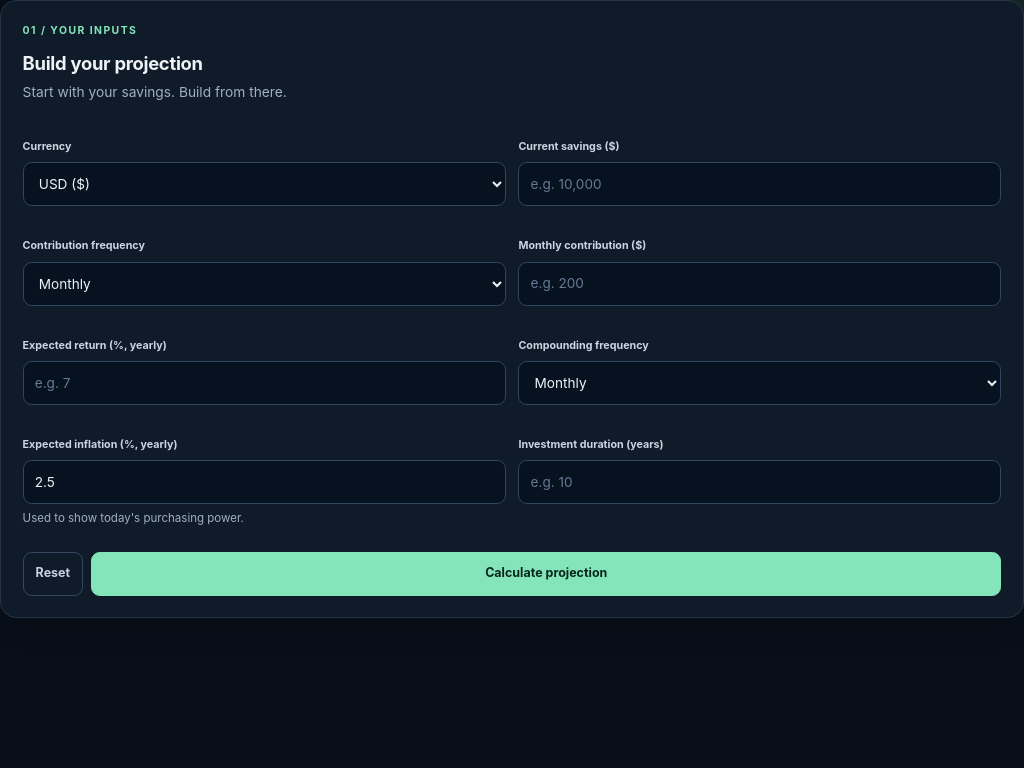
Form › keeps a cleared number input empty and rejects it on submit
Clear the number field labelled "Current savings ($)". click: (760, 184)
box: [518,162,1001,206]
Submit the form named "calculate"
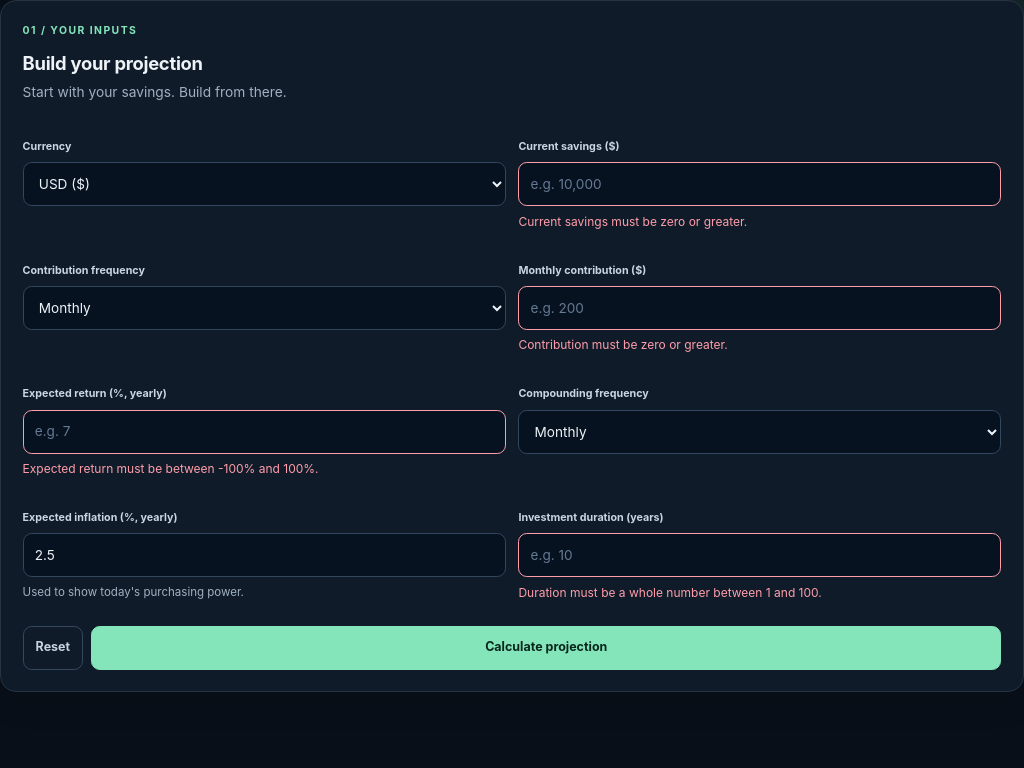
Check: the text "Current savings must be zero or greater." is shown, box [518,214,747,229]
